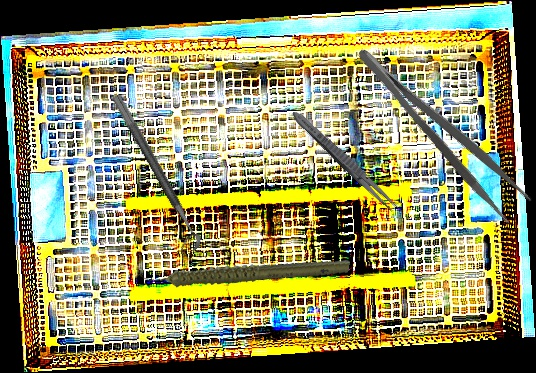Dressing Forceps: (351, 29, 536, 229), (287, 106, 406, 219)
Fixation Ring: (98, 93, 205, 257)
Handpiece: (137, 223, 351, 318)
